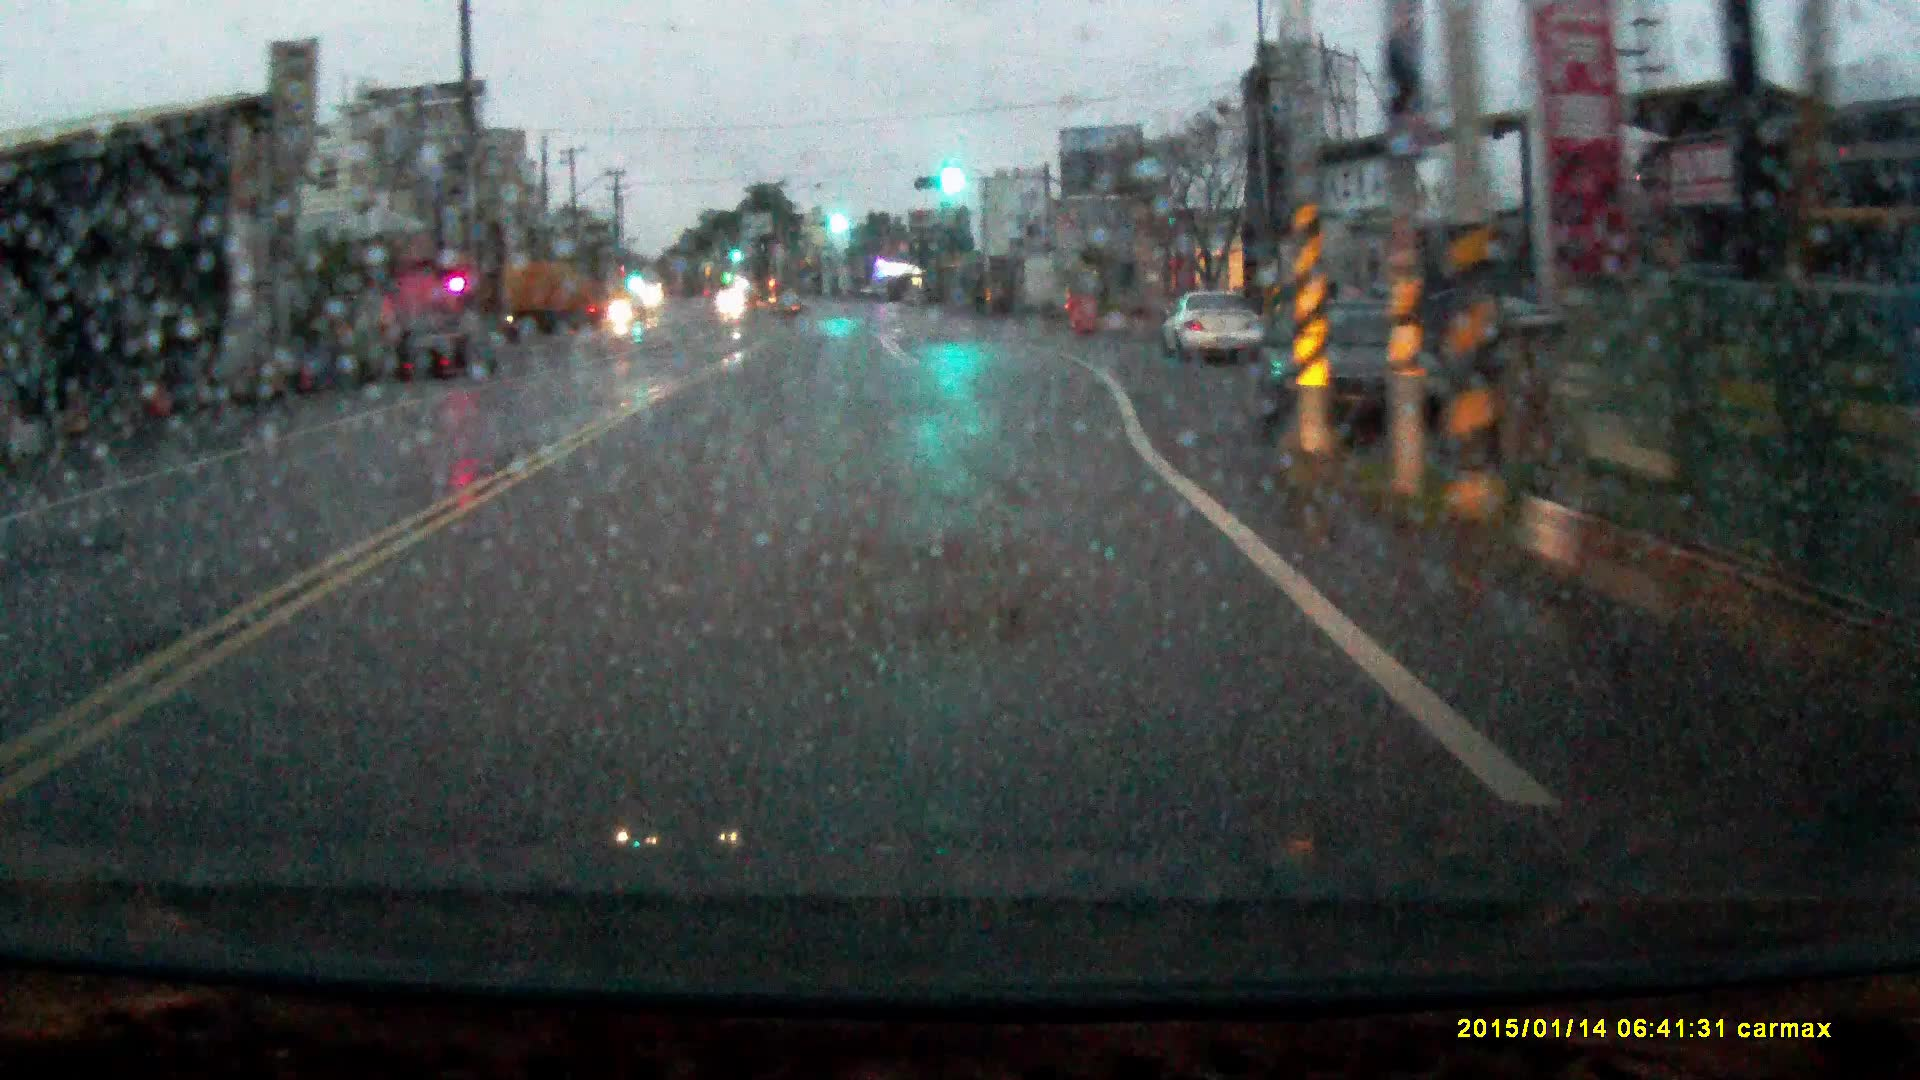rider: (606, 286, 636, 344)
vehicle: (1250, 301, 1451, 446), (1155, 288, 1264, 362), (499, 257, 598, 340), (393, 315, 499, 380), (718, 289, 747, 314)
